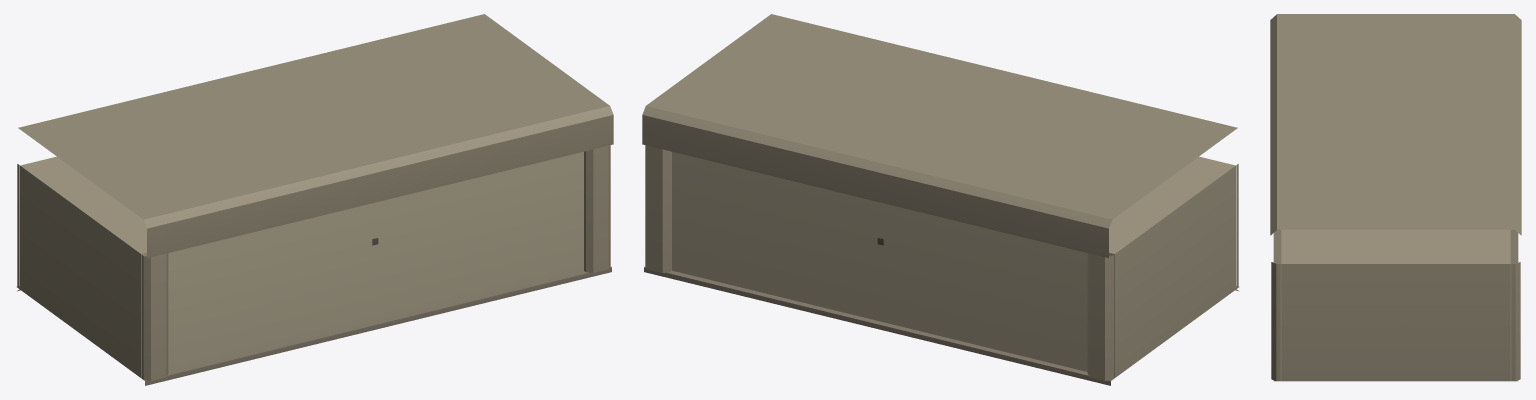
File: plywood_header.glb
3 renders of one model, left to right at view 1: azimuth 30°, elevation 25°; view 2: azimuth 150°, elevation 25°; view 3: azimuth 270°, elevation 25°, orthographic. The views are drawn at different scales.
Parts seen in each view (by area): view 1: plywood_header; view 2: plywood_header; view 3: plywood_header.
Part boxes in pixels (<box>): plywood_header: <box>16,14,613,385</box>; plywood_header: <box>642,14,1239,385</box>; plywood_header: <box>1270,14,1521,381</box>.
Bounding box in the file's own units: 0.61 × 0.206 × 0.3.
